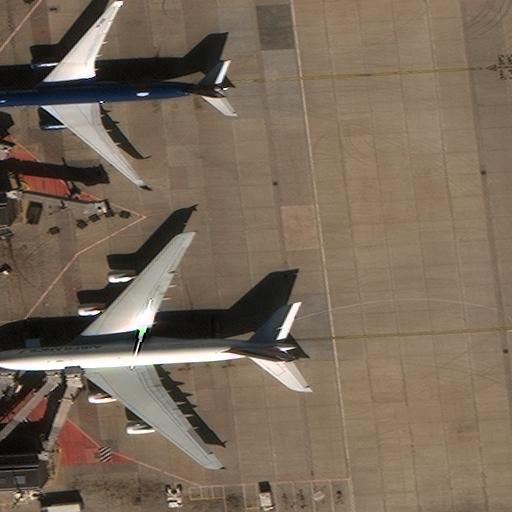Large Civil Transport: (0, 234, 298, 469), (0, 0, 227, 190)
